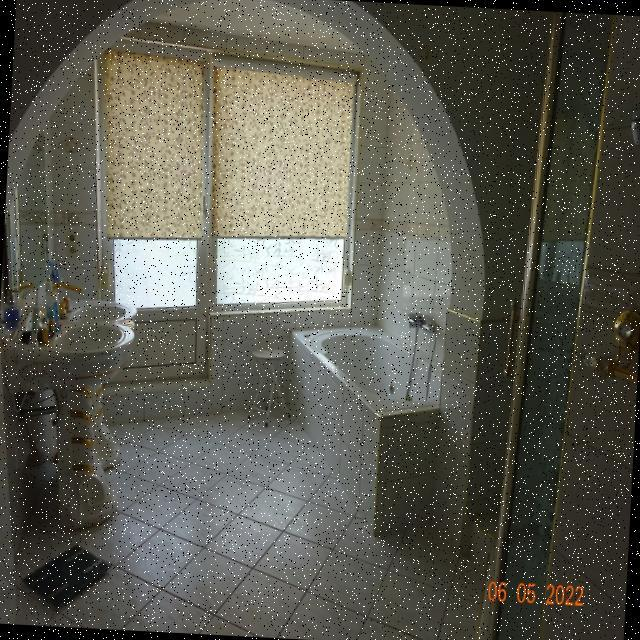bath: (288, 305, 446, 427)
douche: (464, 9, 640, 640)
wastafel: (0, 275, 139, 532)
